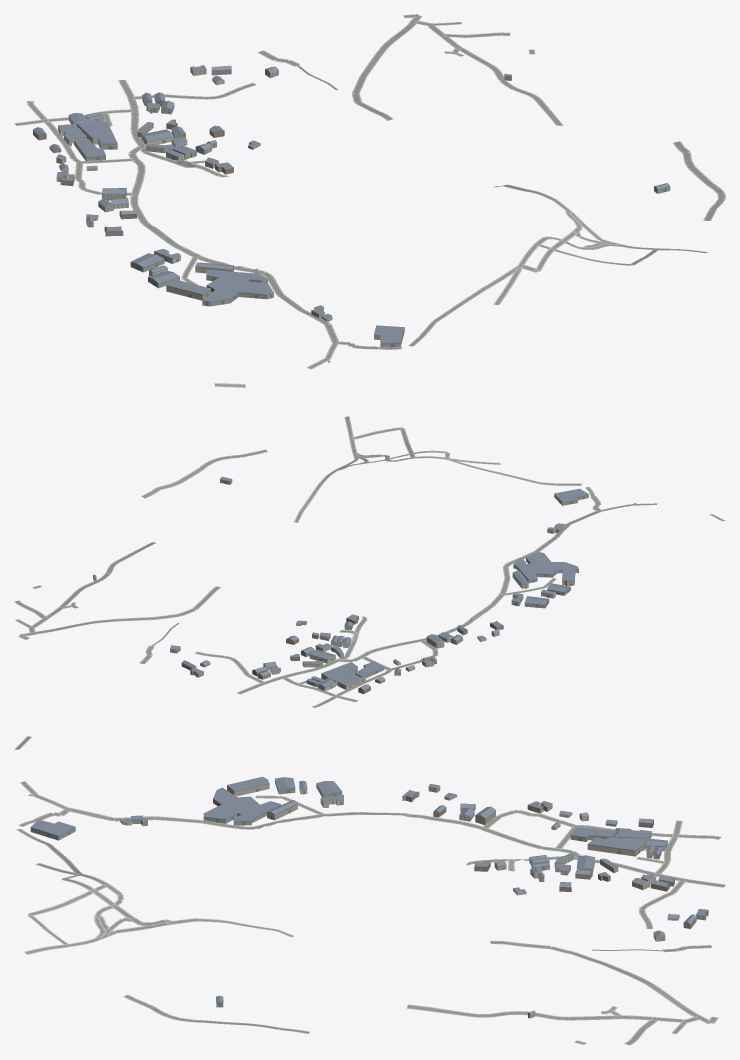
3 views of the same model, one above another, from view 1: azimuth 30°, elevation 25°; view 2: azimuth 150°, elevation 25°; view 3: azimuth 270°, elevation 25° (orthographic). The views are drawn at different scales.
Visible parts, largest first — view 1: context-osm-buildings, context-osm-roads, context-osm-sidewalks; view 2: context-osm-buildings, context-osm-roads, context-osm-sidewalks; view 3: context-osm-buildings, context-osm-roads, context-osm-sidewalks.
Boxes of the visible parts, x1,y1,x2,y2 form: context-osm-buildings: (33,65,670,347); context-osm-roads: (15,14,724,386); context-osm-sidewalks: (14,14,725,387); context-osm-buildings: (93,476,588,694); context-osm-roads: (15,416,724,707); context-osm-sidewalks: (14,416,725,707); context-osm-buildings: (30,776,708,1018); context-osm-roads: (15,736,725,1044); context-osm-sidewalks: (14,736,725,1045).
Size of the model in its own units: 796 by 60.63 by 834.
